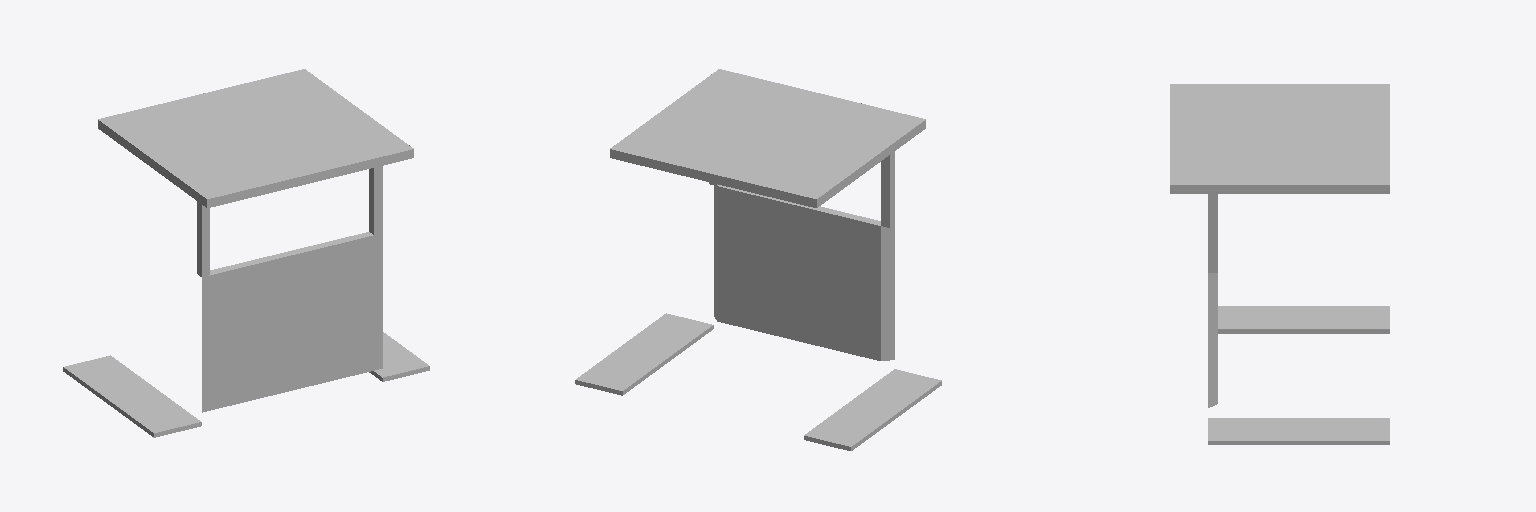
The model's file is tana.obj.
The picture shows the model from 3 angles: view 1: azimuth 30°, elevation 25°; view 2: azimuth 150°, elevation 25°; view 3: azimuth 270°, elevation 25°; orthographic projection.
Parts seen in each view (by area): view 1: Brush2, Brush6, Brush0, Brush1, Brush5, Brush4; view 2: Brush6, Brush2, Brush1, Brush0, Brush4; view 3: Brush6, Brush1, Brush0, Brush2, Brush5.
Part boxes in pixels (left/top/right/bottom): Brush2: left=202, top=232, right=382, bottom=412; Brush6: left=98, top=69, right=413, bottom=207; Brush0: left=63, top=355, right=201, bottom=437; Brush1: left=369, top=332, right=429, bottom=381; Brush5: left=369, top=166, right=382, bottom=234; Brush4: left=197, top=201, right=209, bottom=276; Brush6: left=610, top=69, right=925, bottom=207; Brush2: left=714, top=185, right=894, bottom=360; Brush1: left=575, top=313, right=713, bottom=395; Brush0: left=804, top=369, right=941, bottom=450; Brush4: left=881, top=152, right=894, bottom=227; Brush6: left=1170, top=84, right=1389, bottom=193; Brush1: left=1208, top=418, right=1389, bottom=444; Brush0: left=1218, top=306, right=1389, bottom=333; Brush2: left=1208, top=273, right=1217, bottom=407; Brush5: left=1208, top=201, right=1217, bottom=272.
Bounding box in the file's own units: 64 × 54 × 44.01.